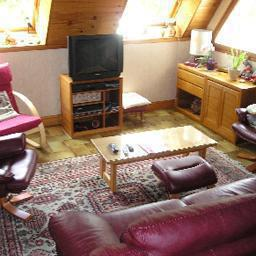Ventana: (2, 2, 46, 49), (127, 3, 180, 39)
